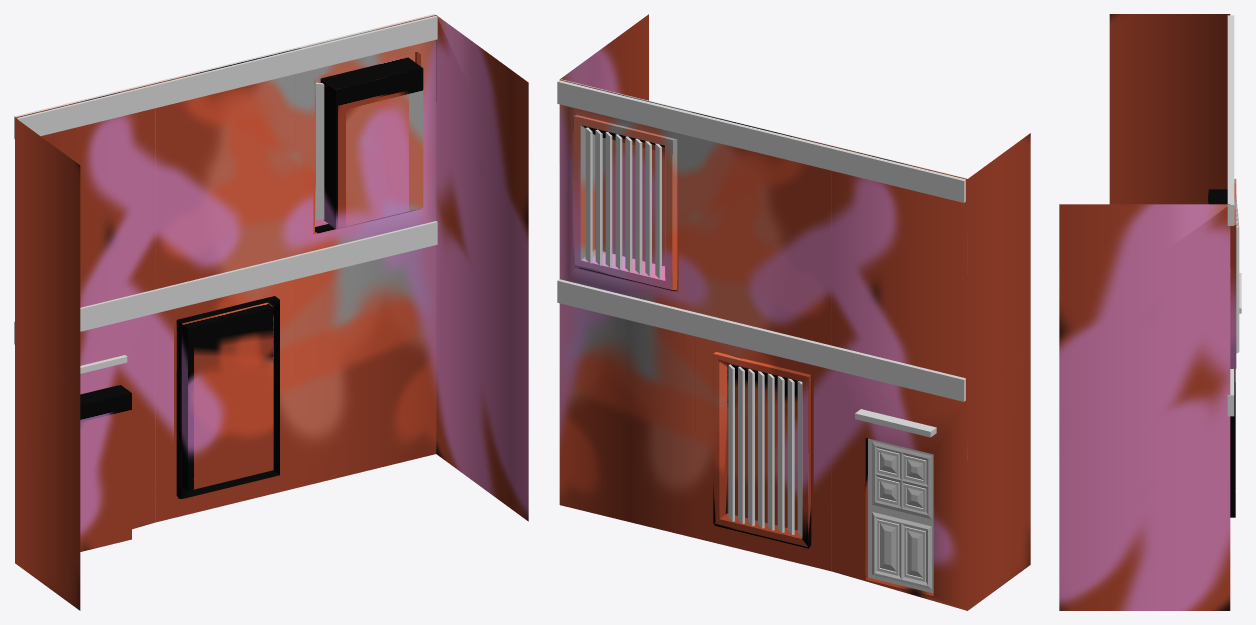
The model's file is brise.dae.
3 views of the same model, side by side, from view 1: azimuth 30°, elevation 25°; view 2: azimuth 150°, elevation 25°; view 3: azimuth 270°, elevation 25° (orthographic). The views are drawn at different scales.
Parts seen in each view (by area): view 1: Plane_009, Cube_010_Cube_003, Cube_009_Cube_003, Cube_Cube_004; view 2: Plane_009, Cube_010_Cube_003, Cube_009_Cube_003, Cube_002_Cube_004, Cube_001_Cube_004, Cube_Cube_004, Cube_003_Cube_003; view 3: Plane_009, Cube_010_Cube_003, Cube_Cube_004, Cube_009_Cube_003.
Part boxes in pixels (x1,y1,x2,y2): Plane_009: [15, 15, 528, 610]; Cube_010_Cube_003: [14, 14, 437, 138]; Cube_009_Cube_003: [14, 221, 437, 344]; Cube_Cube_004: [316, 82, 324, 219]; Plane_009: [559, 14, 1030, 610]; Cube_010_Cube_003: [557, 79, 967, 202]; Cube_009_Cube_003: [557, 279, 965, 401]; Cube_002_Cube_004: [868, 438, 933, 593]; Cube_001_Cube_004: [728, 364, 802, 536]; Cube_Cube_004: [585, 127, 665, 278]; Cube_003_Cube_003: [855, 409, 936, 437]; Plane_009: [1059, 14, 1236, 610]; Cube_010_Cube_003: [1227, 15, 1234, 225]; Cube_Cube_004: [1236, 195, 1239, 353]; Cube_009_Cube_003: [1227, 369, 1234, 416].
Bounding box in the file's own units: 6.02 × 2.44 × 6.09.
2 materials, 1 textured.
